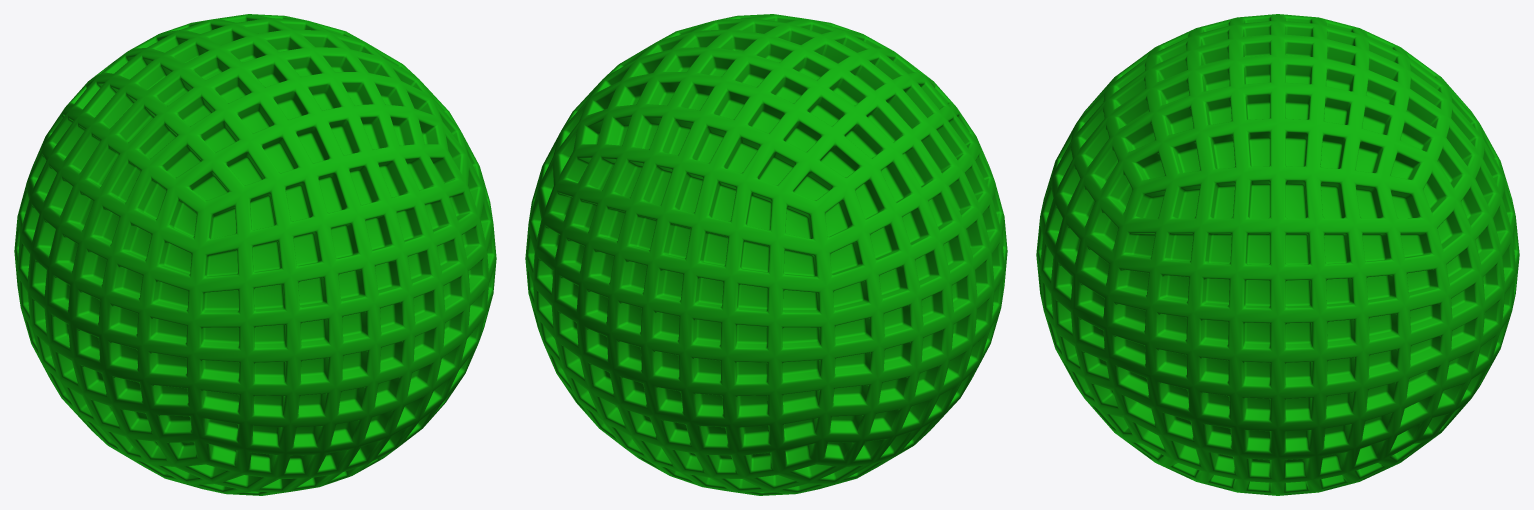
The model's file is green_squares_plastic.glb.
3 renders of one model, left to right at view 1: azimuth 30°, elevation 25°; view 2: azimuth 150°, elevation 25°; view 3: azimuth 270°, elevation 25°, orthographic.
Visible parts, largest first — view 1: Roundcube; view 2: Roundcube; view 3: Roundcube.
Part boxes in pixels (x1=…): Roundcube: x1=14, y1=14, x2=496, y2=495; Roundcube: x1=525, y1=14, x2=1007, y2=495; Roundcube: x1=1036, y1=14, x2=1519, y2=495.
Size of the model in its own units: 2 by 2 by 2.
